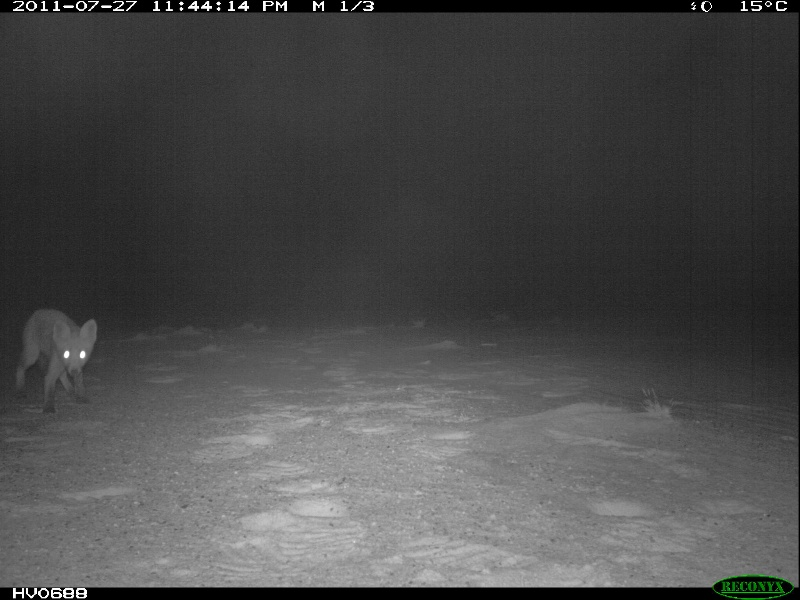fox: (12, 296, 104, 422)
